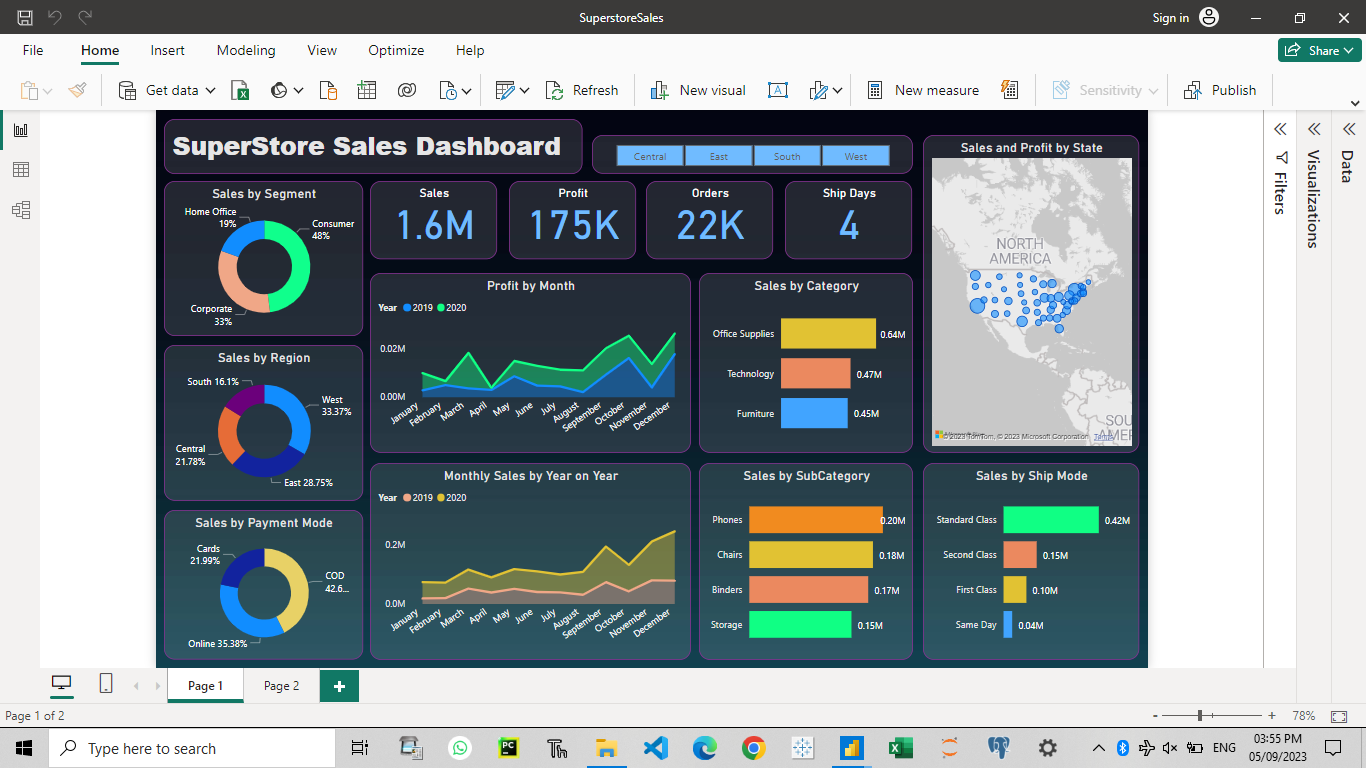

This screenshot's page, from the dashboard's own definition file:
{"tool":"powerbi","page":{"name":"Page 1","canvas":[1280,720],"ordinal":0},"visuals":[{"type":"clusteredBarChart","title":"Sales by Category","fields":{"Category":["SuperStore_Sales_Dataset.Category"],"Y":["Sum(SuperStore_Sales_Dataset.Sales)"]},"box":[700.2,209.8,276.4,232.4],"z":0},{"type":"clusteredBarChart","title":"Sales by SubCategory","fields":{"Y":["Sum(SuperStore_Sales_Dataset.Sales)"],"Category":["SuperStore_Sales_Dataset.Sub-Category"]},"box":[700.2,455,276.4,253.7],"z":1000},{"type":"clusteredBarChart","title":"Sales by Ship Mode","fields":{"Y":["Sum(SuperStore_Sales_Dataset.Sales)"],"Category":["SuperStore_Sales_Dataset.Ship Mode"]},"box":[989.3,455,279.2,253.7],"z":2000},{"type":"stackedAreaChart","title":"Profit by Month","fields":{"Series":["SuperStore_Sales_Dataset.Order Date.Variation.Date Hierarchy.Year"],"Category":["SuperStore_Sales_Dataset.Order Date.Variation.Date Hierarchy.Month"],"Y":["Sum(SuperStore_Sales_Dataset.Profit)"]},"box":[276.4,209.8,413.9,232.4],"z":3000},{"type":"stackedAreaChart","title":"Monthly Sales by Year on Year","fields":{"Y":["Sum(SuperStore_Sales_Dataset.Sales)"],"Series":["SuperStore_Sales_Dataset.Order Date.Variation.Date Hierarchy.Year"],"Category":["SuperStore_Sales_Dataset.Order Date.Variation.Date Hierarchy.Month"]},"box":[276.4,455,413.9,253.7],"z":4000},{"type":"map","title":"Sales and Profit by State","fields":{"Category":["SuperStore_Sales_Dataset.State"],"Size":["Sum(SuperStore_Sales_Dataset.Sales)"]},"box":[989.3,32.6,279.2,409.6],"z":5000},{"type":"donutChart","title":"Sales by Segment","fields":{"Y":["Sum(SuperStore_Sales_Dataset.Sales)"],"Category":["SuperStore_Sales_Dataset.Segment"]},"box":[9.9,92.1,256.5,199.8],"z":6000},{"type":"donutChart","title":"Sales by Region","fields":{"Y":["Sum(SuperStore_Sales_Dataset.Sales)"],"Category":["SuperStore_Sales_Dataset.Region"]},"box":[9.9,303.3,256.5,201.3],"z":7000},{"type":"donutChart","title":"Sales by Payment Mode","fields":{"Y":["Sum(SuperStore_Sales_Dataset.Sales)"],"Category":["SuperStore_Sales_Dataset.Payment Mode"]},"box":[9.9,515.9,256.5,192.8],"z":8000},{"type":"slicer","fields":{"Values":["SuperStore_Sales_Dataset.Region"]},"box":[562.7,32.6,413.9,49.6],"z":9000},{"type":"card","title":"Sales","fields":{"Values":["Sum(SuperStore_Sales_Dataset.Sales)"]},"box":[276.4,92.1,164,100.6],"z":10000},{"type":"textbox","box":[9.9,11.3,540,70.9],"z":11000},{"type":"card","title":"Profit","fields":{"Values":["Sum(SuperStore_Sales_Dataset.Profit)"]},"box":[455,92.1,164,100.6],"z":12000},{"type":"card","title":"Orders","fields":{"Values":["Sum(SuperStore_Sales_Dataset.Quantity)"]},"box":[632,92.1,164.4,100.6],"z":13000},{"type":"card","title":"Ship Days","fields":{"Values":["Avg(SuperStore_Sales_Dataset.AvgDelivery)"]},"box":[812.1,92.1,164.4,100.6],"z":14000}]}

Visuals, with their boxes on the page's 1280x720 design canvas (x1, y1, x2, y2). These are canvas units, not pixel positions in the 1366x768 screenshot, which may show the page scaled, cropped or inside an application window:
"Sales by Category" clusteredBarChart: {"x1": 700, "y1": 210, "x2": 977, "y2": 442}
"Sales by SubCategory" clusteredBarChart: {"x1": 700, "y1": 455, "x2": 977, "y2": 709}
"Sales by Ship Mode" clusteredBarChart: {"x1": 989, "y1": 455, "x2": 1268, "y2": 709}
"Profit by Month" stackedAreaChart: {"x1": 276, "y1": 210, "x2": 690, "y2": 442}
"Monthly Sales by Year on Year" stackedAreaChart: {"x1": 276, "y1": 455, "x2": 690, "y2": 709}
"Sales and Profit by State" map: {"x1": 989, "y1": 33, "x2": 1268, "y2": 442}
"Sales by Segment" donutChart: {"x1": 10, "y1": 92, "x2": 266, "y2": 292}
"Sales by Region" donutChart: {"x1": 10, "y1": 303, "x2": 266, "y2": 505}
"Sales by Payment Mode" donutChart: {"x1": 10, "y1": 516, "x2": 266, "y2": 709}
slicer - SuperStore_Sales_Dataset.Region: {"x1": 563, "y1": 33, "x2": 977, "y2": 82}
"Sales" card: {"x1": 276, "y1": 92, "x2": 440, "y2": 193}
textbox: {"x1": 10, "y1": 11, "x2": 550, "y2": 82}
"Profit" card: {"x1": 455, "y1": 92, "x2": 619, "y2": 193}
"Orders" card: {"x1": 632, "y1": 92, "x2": 796, "y2": 193}
"Ship Days" card: {"x1": 812, "y1": 92, "x2": 976, "y2": 193}
